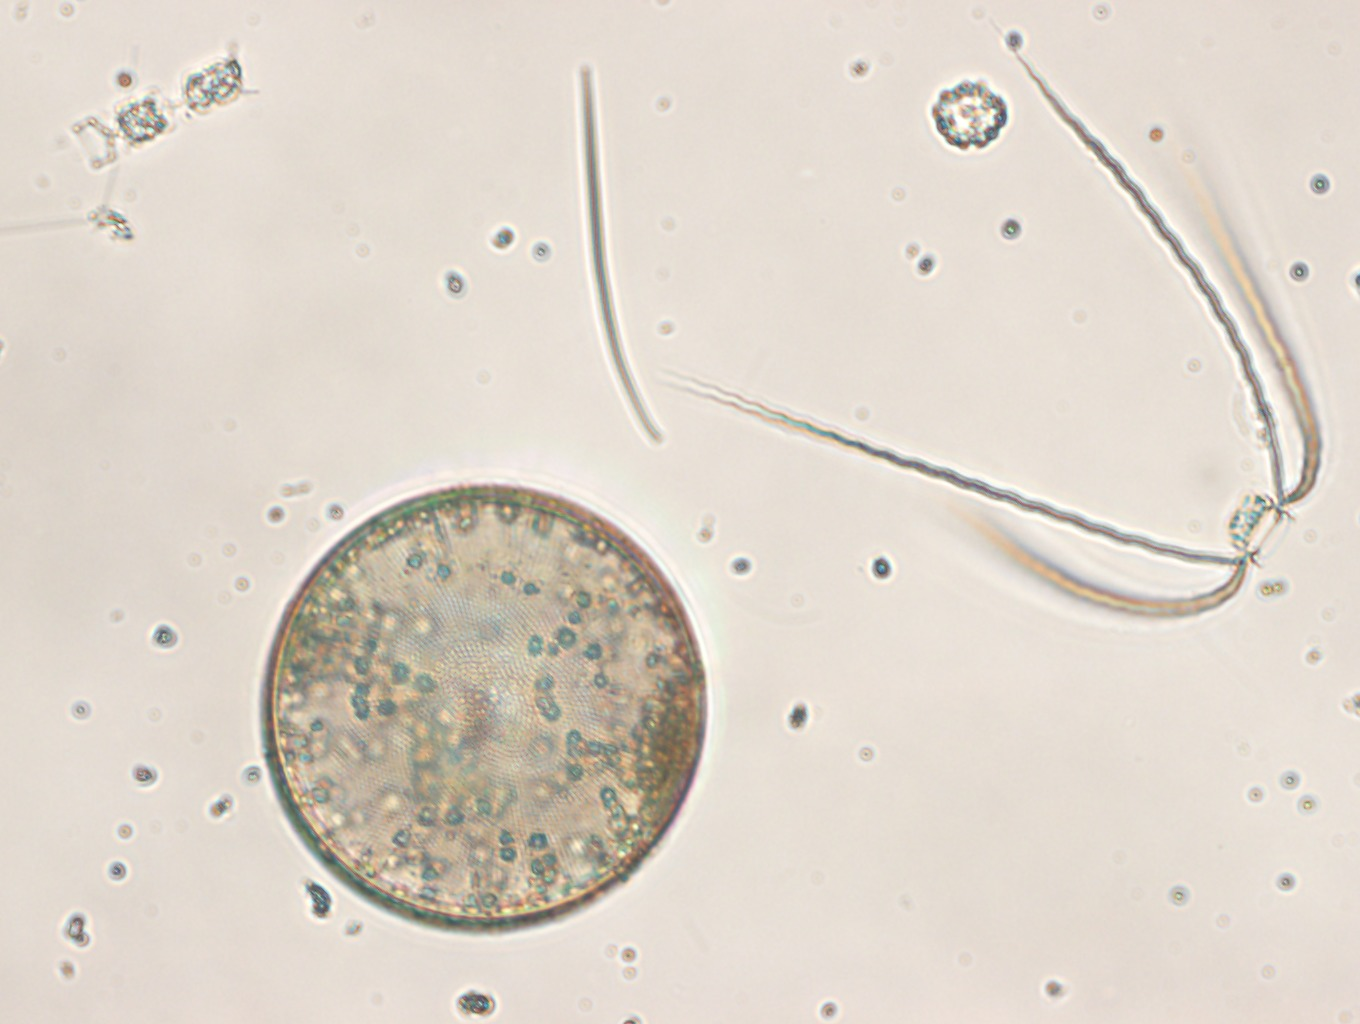chaetoceros: (655, 17, 1322, 618), (52, 48, 259, 177)
coscinodiscus: (256, 481, 708, 935)
